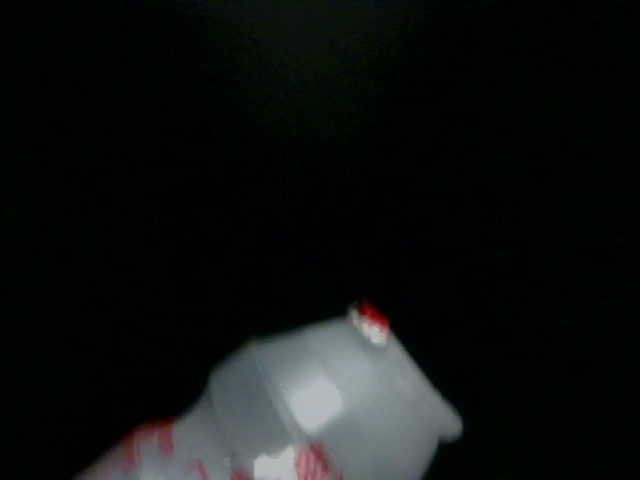CYLJ: (48, 346, 167, 467)
